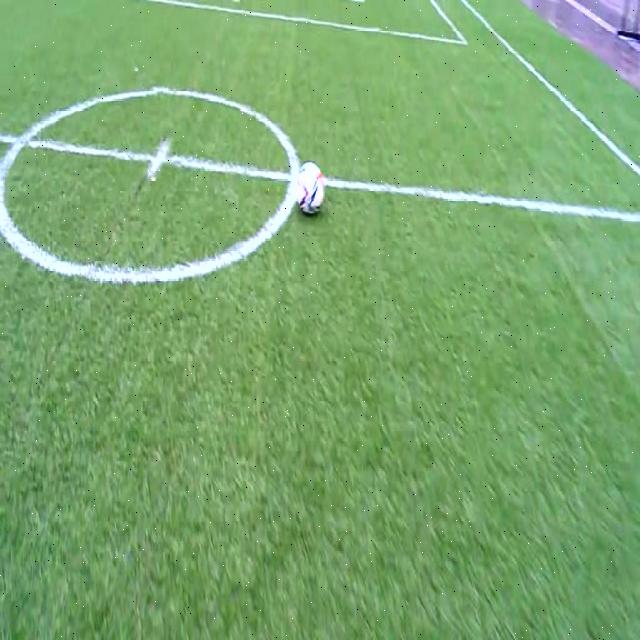ball: (297, 162, 324, 212)
